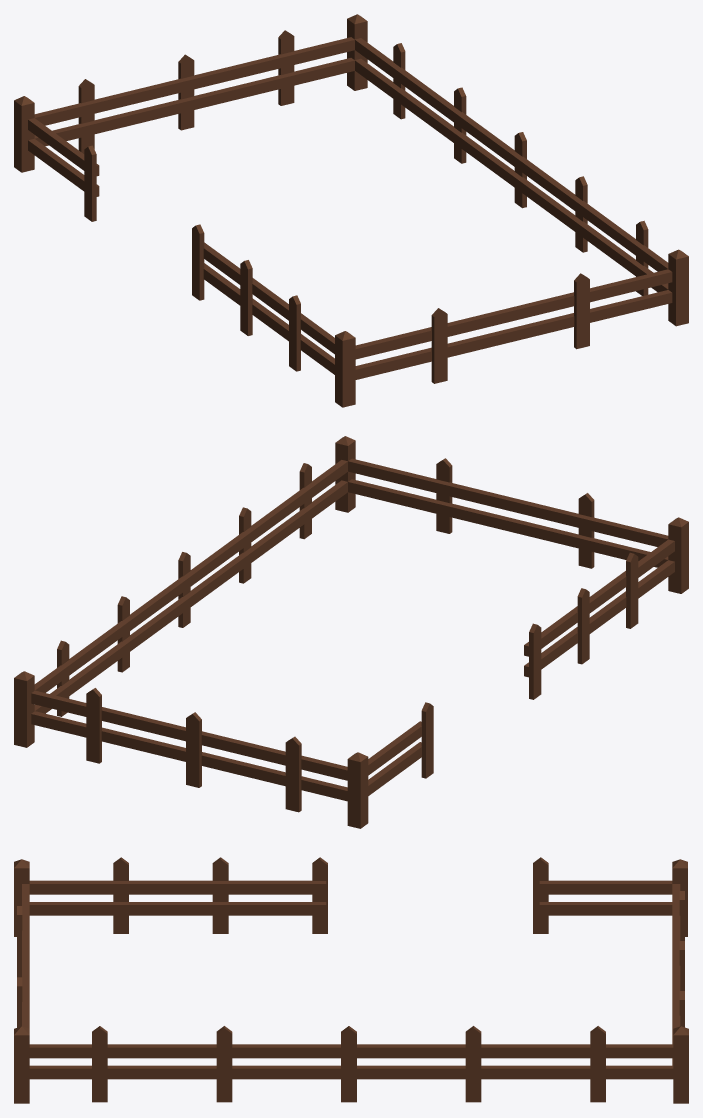
File: Fenc.fbx
The picture shows the model from 3 angles, top to bottom: view 1: azimuth 30°, elevation 25°; view 2: azimuth 150°, elevation 25°; view 3: azimuth 270°, elevation 25°; orthographic projection. The views are drawn at different scales.
Parts seen in each view (by area): view 1: Cube.005; view 2: Cube.005; view 3: Cube.005.
Part boxes in pixels (x1,y1,x2,y2): Cube.005: [14, 14, 688, 407]; Cube.005: [14, 436, 688, 828]; Cube.005: [14, 857, 688, 1103].
Bounding box in the file's own units: 310 × 61.98 × 510.
